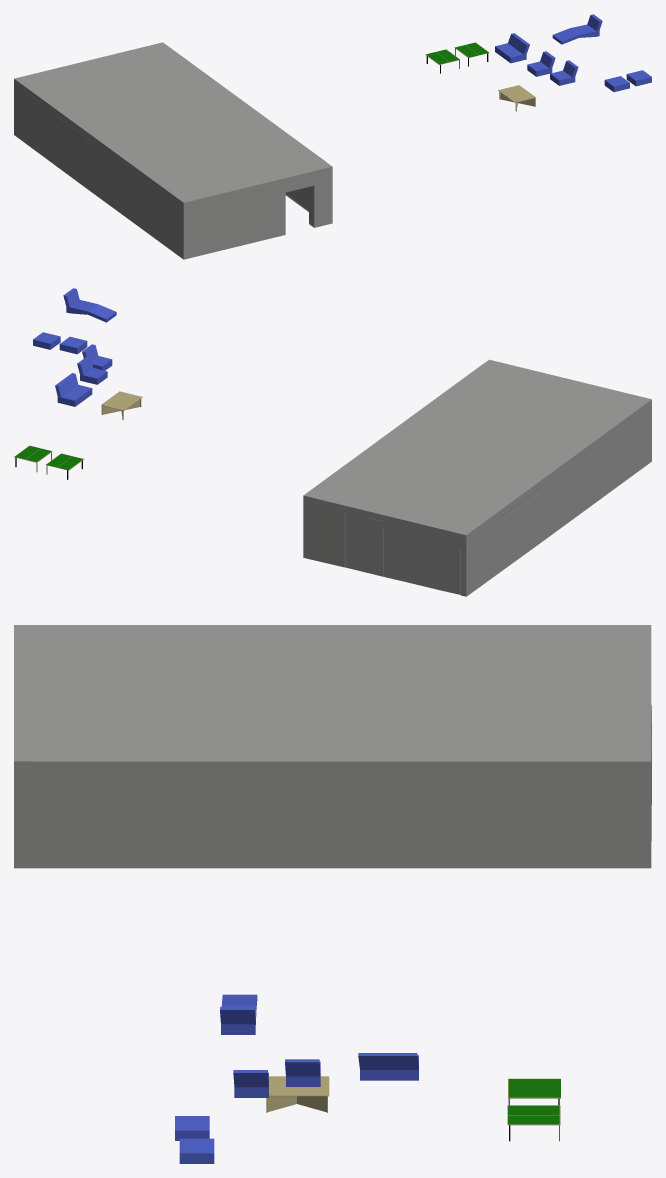
File: furnitureforbasement.fbx
The picture shows the model from 3 angles, top to bottom: view 1: azimuth 30°, elevation 25°; view 2: azimuth 150°, elevation 25°; view 3: azimuth 270°, elevation 25°; orthographic projection. The views are drawn at different scales.
Parts seen in each view (by area): view 1: House, Letnay Wala Sofa, Sofa 2 Seat, LT Table, Sofa 1 Seat 1, Sofa 1 Seat 2; view 2: House, Letnay Wala Sofa, Sofa 2 Seat, LT Table, Sofa 1 Seat 1; view 3: House, Sofa 2 Seat, LT Table, Letnay Wala Sofa, TT 2, TT - 1, Sofa 1 Seat 1, Sofa 1 Seat 2, Puffy.001, Puffy.
Boxes of the visible parts, x1,y1,x2,y2 form: House: (14, 42, 332, 259); Letnay Wala Sofa: (552, 14, 602, 44); Sofa 2 Seat: (495, 33, 529, 63); LT Table: (498, 85, 536, 111); Sofa 1 Seat 1: (527, 51, 555, 76); Sofa 1 Seat 2: (550, 60, 578, 85); House: (303, 359, 651, 596); Letnay Wala Sofa: (63, 288, 116, 322); Sofa 2 Seat: (55, 373, 92, 406); LT Table: (101, 391, 142, 419); Sofa 1 Seat 1: (77, 356, 107, 384); House: (14, 625, 651, 868); Sofa 2 Seat: (358, 1053, 418, 1080); LT Table: (266, 1076, 329, 1112); Letnay Wala Sofa: (220, 994, 257, 1034); TT 2: (507, 1105, 560, 1141); TT - 1: (508, 1078, 560, 1105); Sofa 1 Seat 1: (285, 1059, 320, 1086); Sofa 1 Seat 2: (233, 1070, 268, 1097); Puffy.001: (179, 1138, 214, 1163); Puffy: (175, 1116, 209, 1140).
Size of the model in its own units: 19028 by 3129 by 10930.
